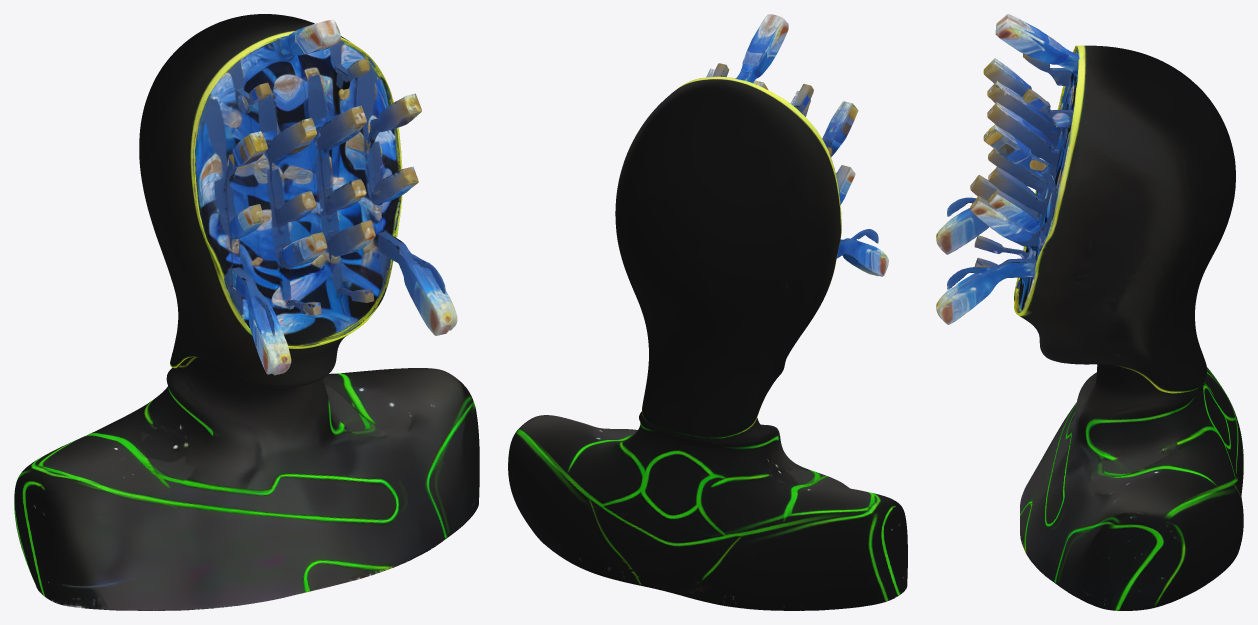
Rendered from base_basic_shaded.glb.
3 views of the same model, side by side, from view 1: azimuth 30°, elevation 25°; view 2: azimuth 150°, elevation 25°; view 3: azimuth 270°, elevation 25° (orthographic). The views are drawn at different scales.
Visible parts, largest first — view 1: model; view 2: model; view 3: model.
Boxes of the visible parts, x1,y1,x2,y2 form: model: (14, 14, 479, 610); model: (508, 14, 907, 610); model: (936, 14, 1243, 610).
Size of the model in its own units: 0.4275 by 0.55 by 0.3047.
1 material, 1 textured.
